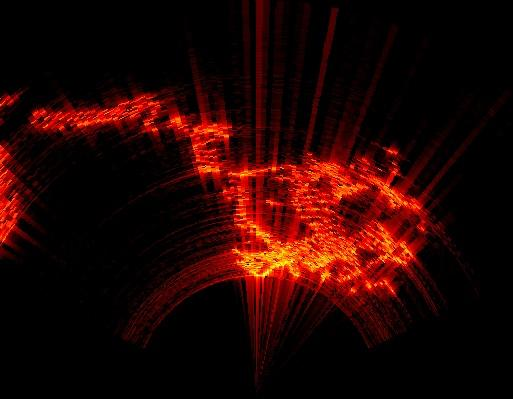shipwreck: (35, 94, 431, 289)
